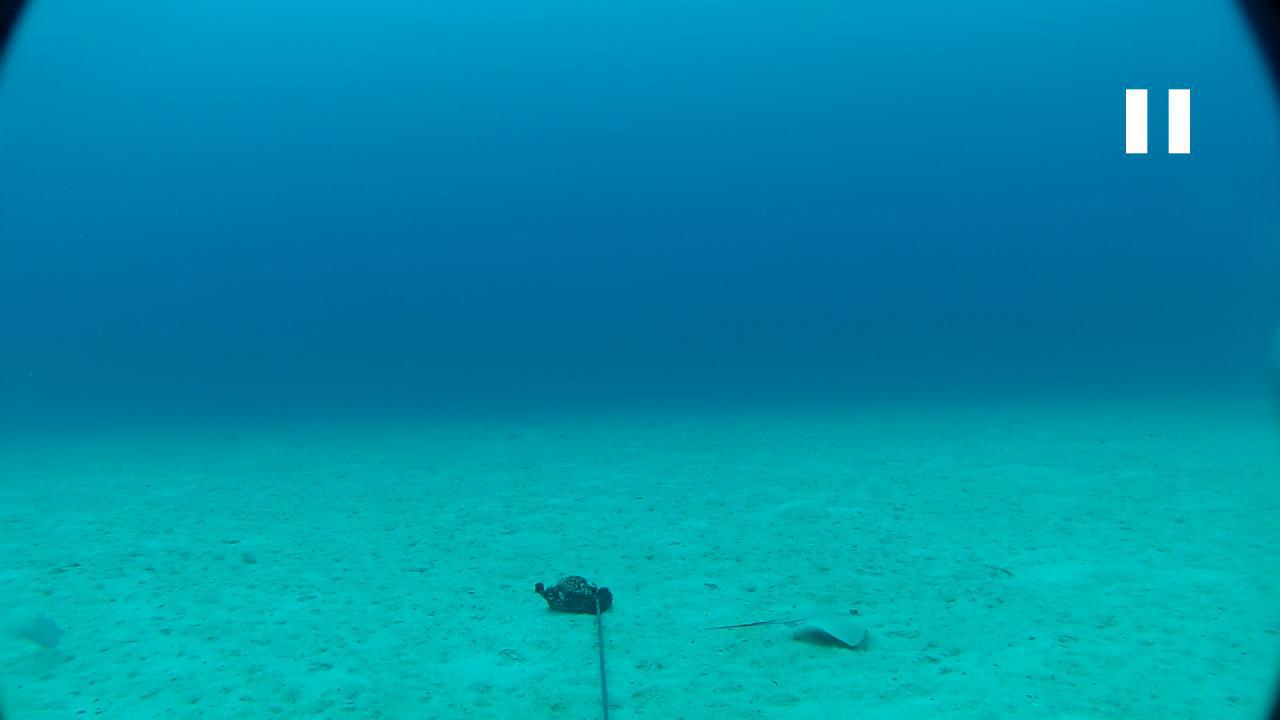dasyatis: (704, 592, 871, 650)
